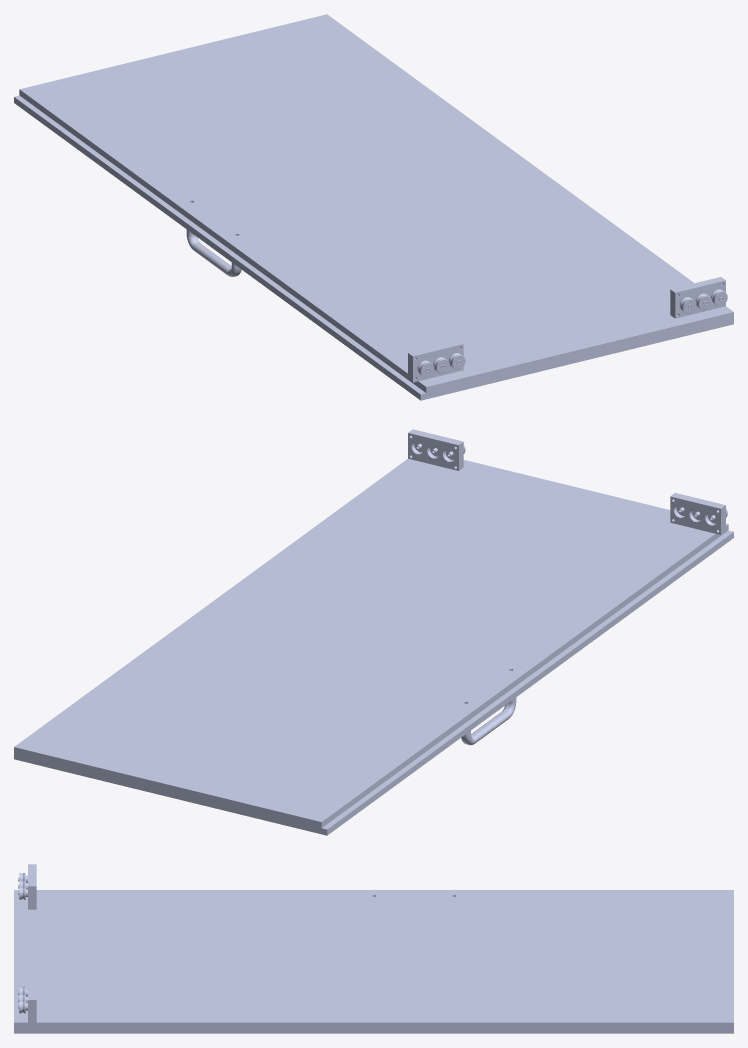
The model's file is TrLinks.DAE.
The picture shows the model from 3 angles, top to bottom: view 1: azimuth 30°, elevation 25°; view 2: azimuth 150°, elevation 25°; view 3: azimuth 270°, elevation 25°; orthographic projection. The views are drawn at different scales.
Visible parts, largest first — view 1: AST772A9772-DC_Brep; view 2: AST772A9772-DC_Brep; view 3: AST772A9772-DC_Brep.
Boxes of the visible parts, left/top/right/bottom form: AST772A9772-DC_Brep: left=14, top=14, right=733, bottom=400; AST772A9772-DC_Brep: left=14, top=429, right=733, bottom=835; AST772A9772-DC_Brep: left=14, top=864, right=733, bottom=1033.
Bounding box in the file's own units: 1.2 × 2.7 × 0.261.
